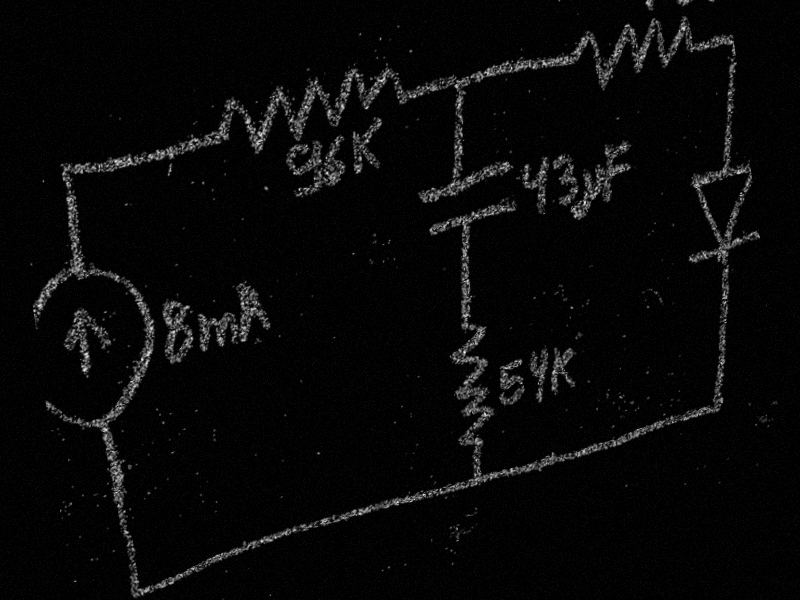3: (544, 147, 586, 213)
4: (513, 150, 558, 225), (523, 343, 556, 408)
5: (492, 355, 530, 411)
6: (319, 129, 351, 193)
7: (626, 0, 682, 18)
8: (155, 291, 199, 369)
9: (282, 134, 328, 206), (665, 0, 709, 12)
A: (232, 274, 272, 347)
F: (595, 135, 639, 204)
k: (346, 114, 388, 181), (545, 340, 582, 397), (694, 0, 729, 11)
m: (193, 301, 241, 359)
u: (573, 162, 609, 219)
